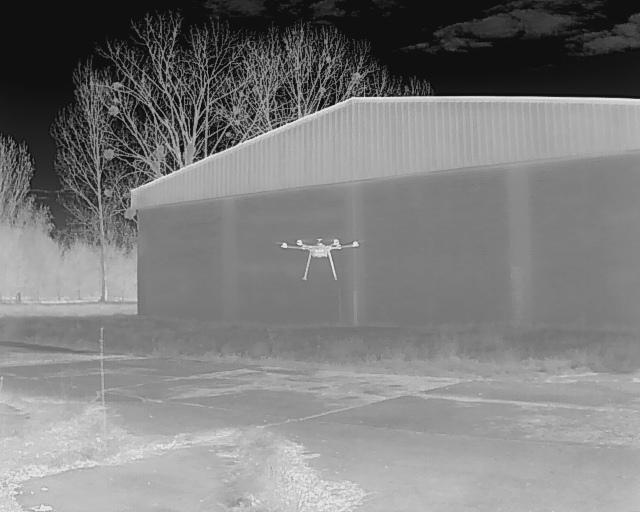drone: (271, 227, 368, 285)
